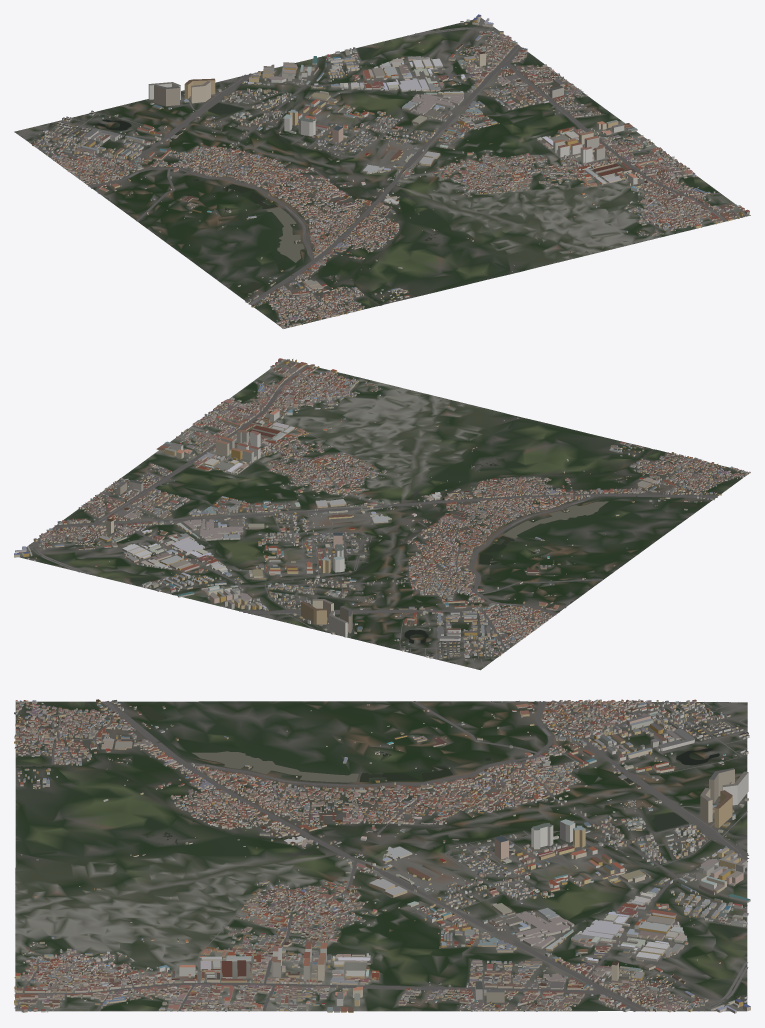
3 views of the same model, one above another, from view 1: azimuth 30°, elevation 25°; view 2: azimuth 150°, elevation 25°; view 3: azimuth 270°, elevation 25° (orthographic). The views are drawn at different scales.
Parts seen in each view (by area): view 1: ground, buildings, roads, water; view 2: ground, buildings, roads, water; view 3: ground, buildings, roads, water.
Part boxes in pixels (x1,y1,x2,y2): ground: (14,18,750,328); buildings: (32,14,749,328); roads: (17,27,747,320); water: (97,56,546,303); ground: (19,359,749,670); buildings: (14,358,750,660); roads: (31,359,717,668); water: (172,449,696,643); ground: (15,701,747,1011); buildings: (14,699,750,1013); roads: (15,700,748,1011); water: (17,705,747,906).
Bounding box in the file's own units: 2836 × 103 × 2823.
